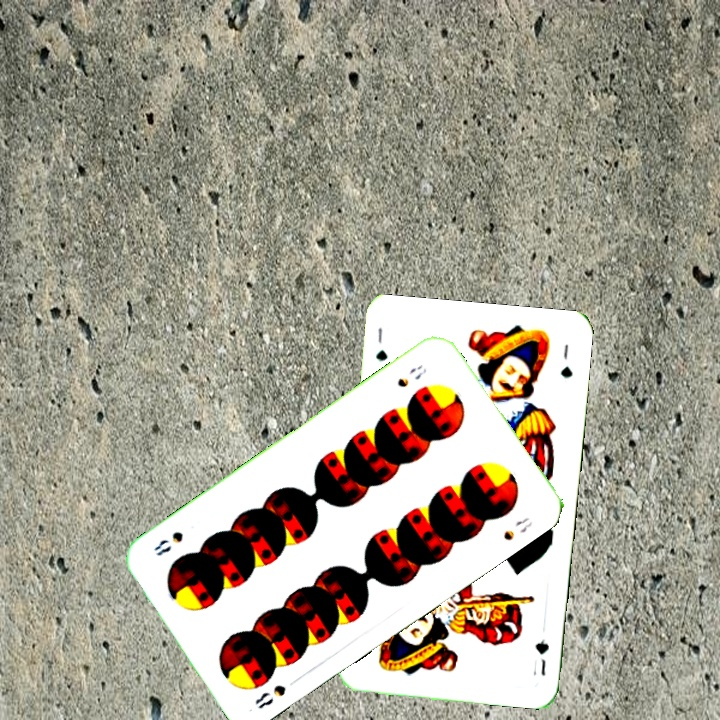GU: (531, 635, 552, 678), (371, 323, 390, 364)
S8: (250, 680, 289, 712), (393, 361, 430, 390)
